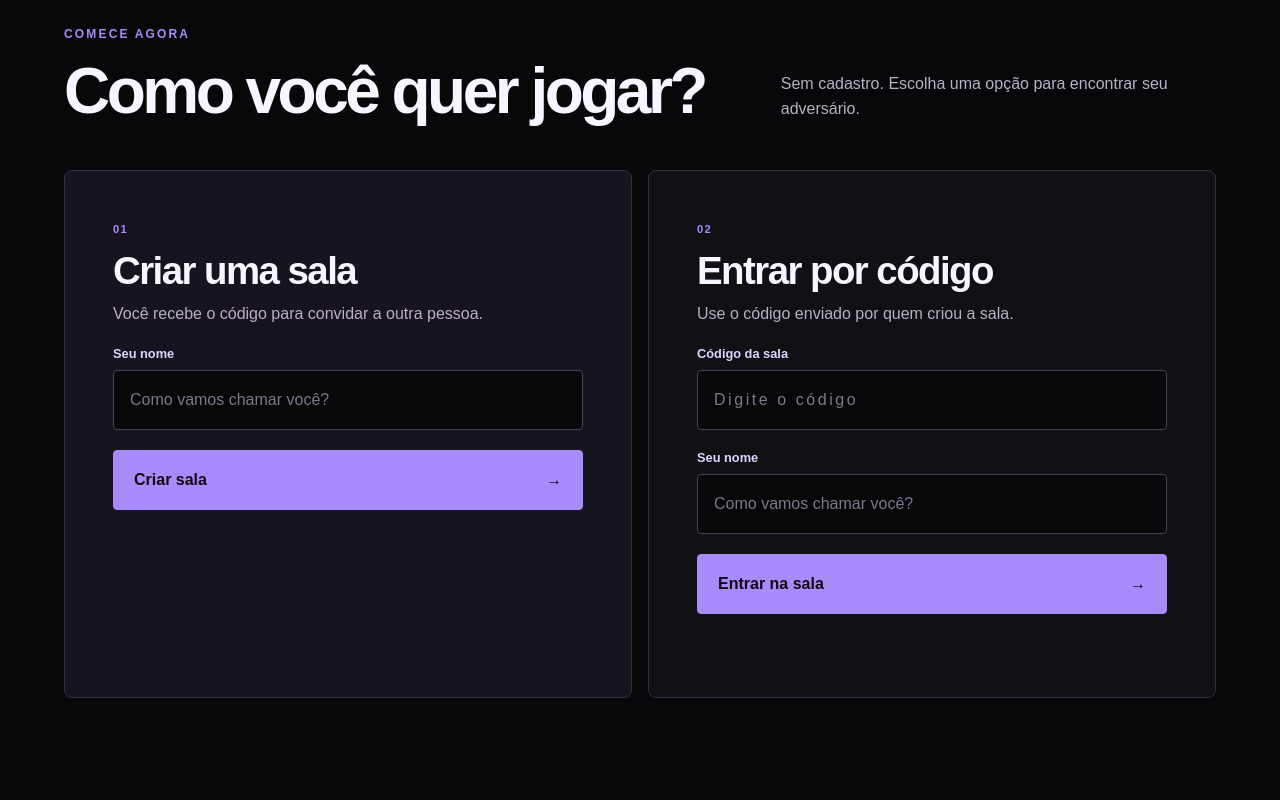
Test: RoomAccess › anuncia uma falha de entrada e permite tentar novamente
(page scrolled)
Type "ABCD2345" into the field labelled "Código da sala" at (932, 400), box [697,370,1167,430]
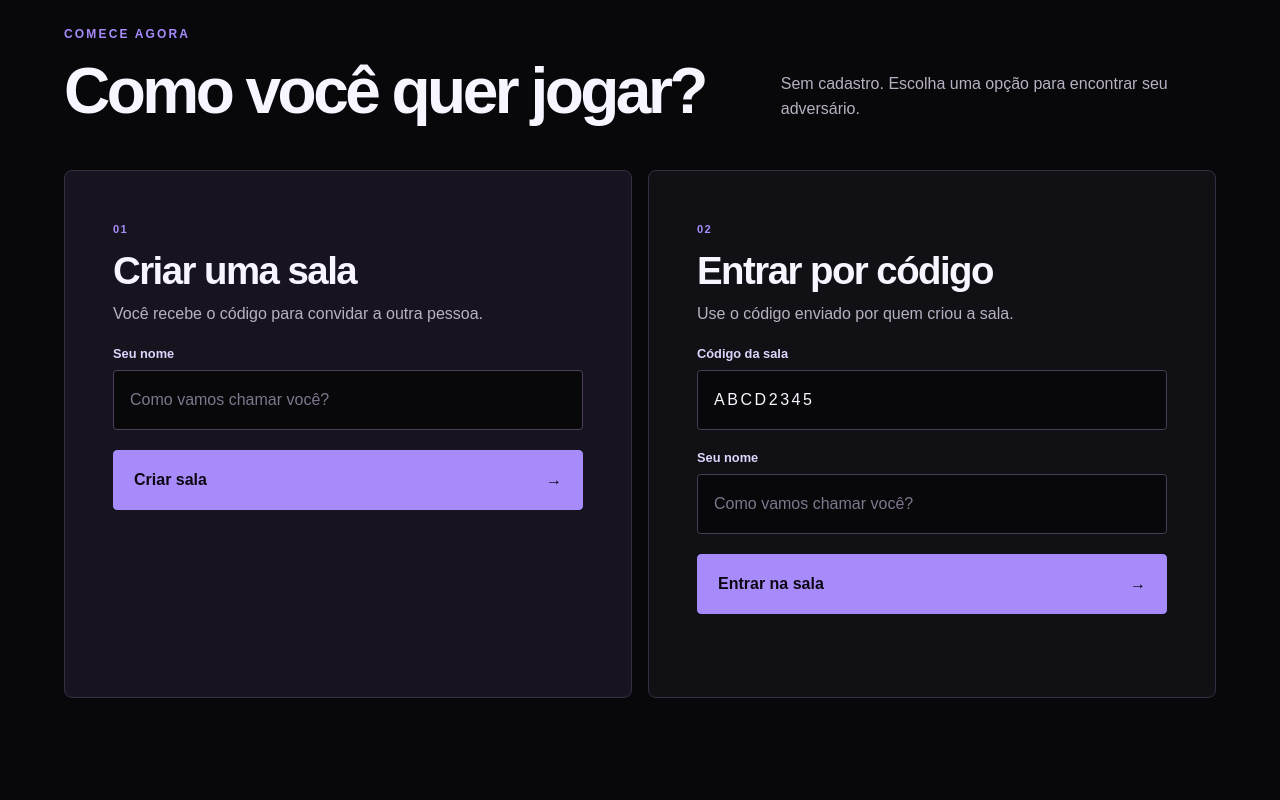
Type "Bruno" into the field labelled "Seu nome" below "Código da sala" at (932, 504), box [697,474,1167,534]
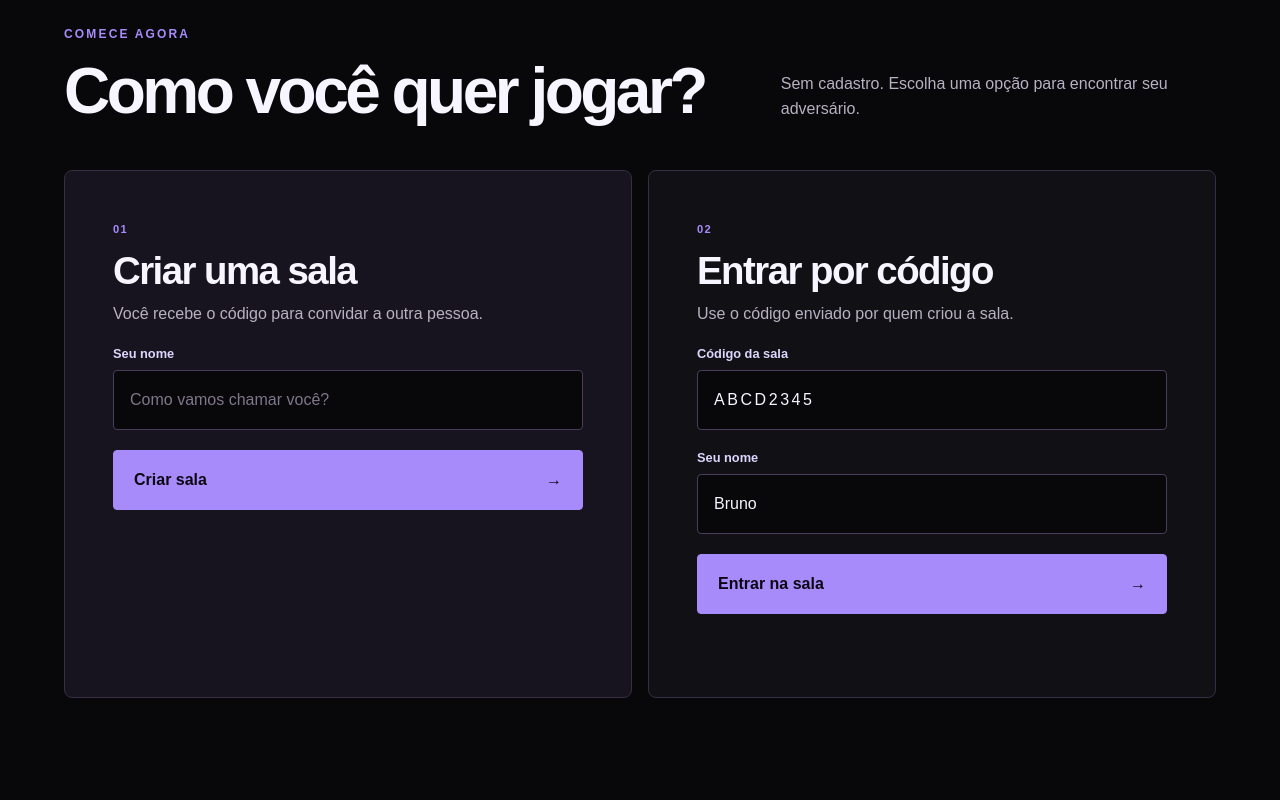
Click the button "Entrar na sala →" at (771, 583), box [697,554,1167,614]
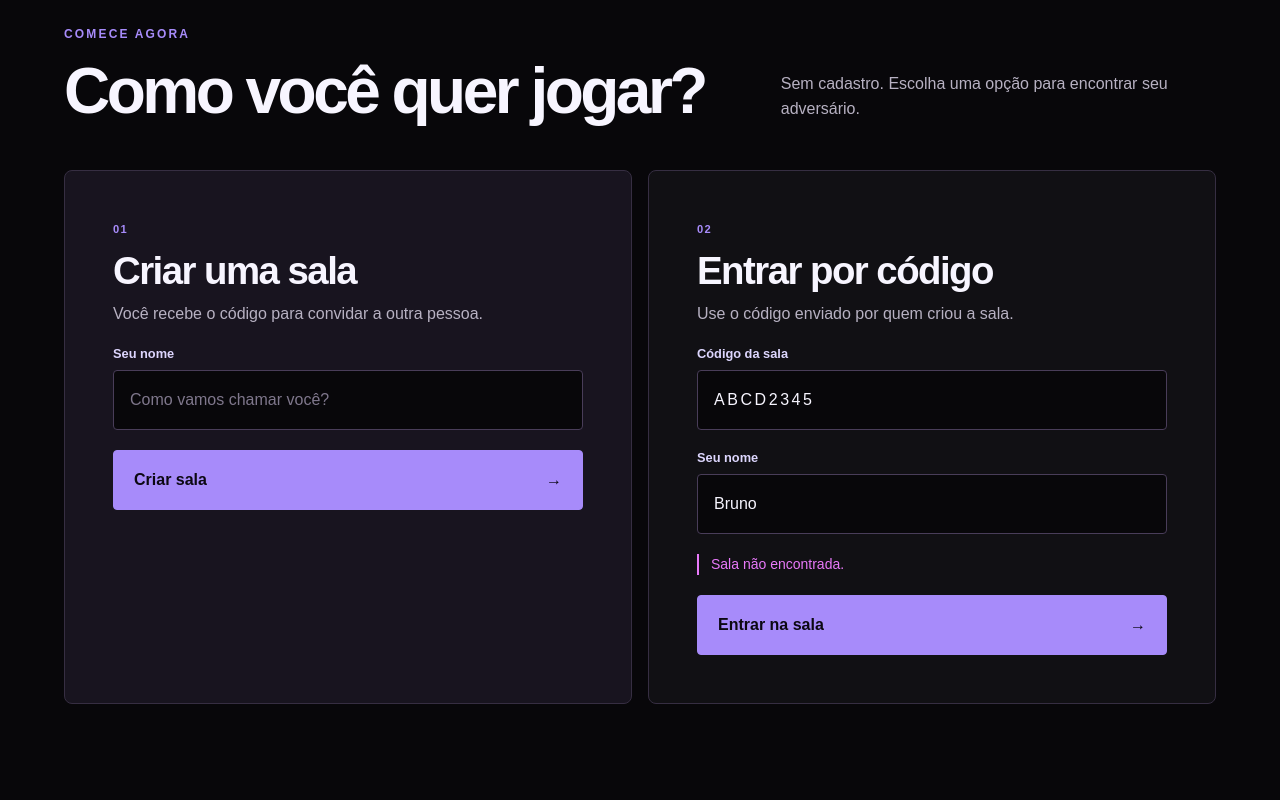
Expected: the button "Entrar na sala →" is enabled, [697,595,1167,655]
Expected: the message reads "Sala não encontrada.", [711,556,844,572]
